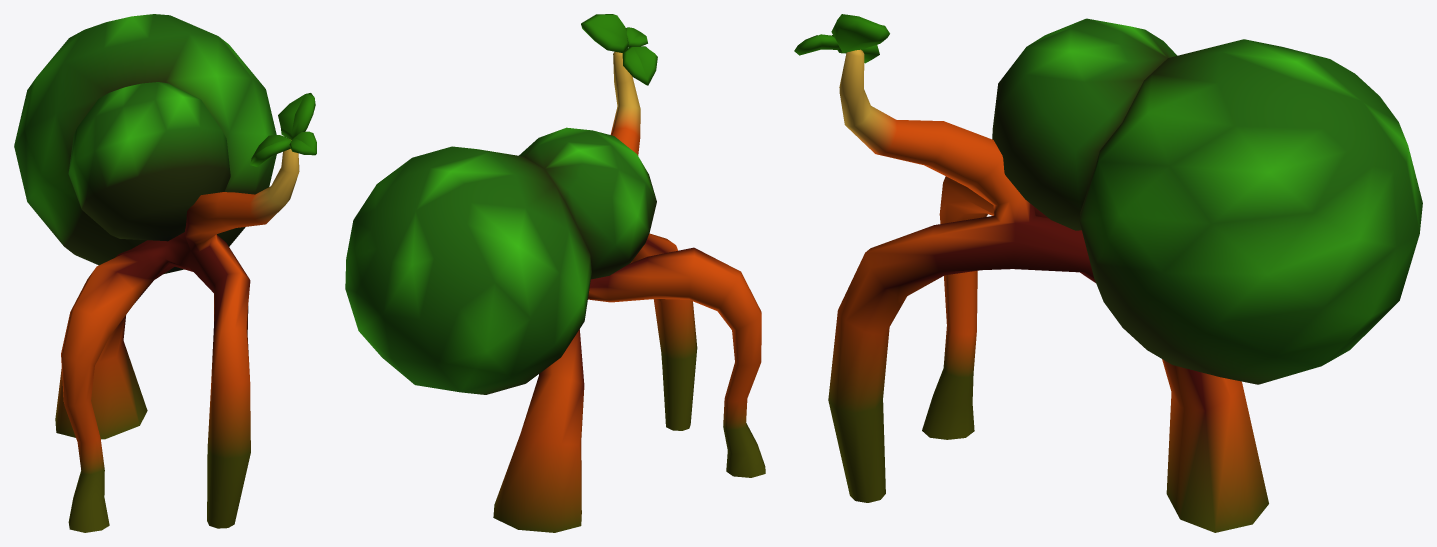
The model's file is Tree_02.fbx.
3 renders of one model, left to right at view 1: azimuth 30°, elevation 25°; view 2: azimuth 150°, elevation 25°; view 3: azimuth 270°, elevation 25°, orthographic. The views are drawn at different scales.
Parts seen in each view (by area): view 1: Tree_02; view 2: Tree_02; view 3: Tree_02.
Boxes of the visible parts, <box> form: Tree_02: <box>14,14,316,532</box>; Tree_02: <box>345,14,765,532</box>; Tree_02: <box>794,14,1422,532</box>.
Bounding box in the file's own units: 2129 × 2679 × 2871.
